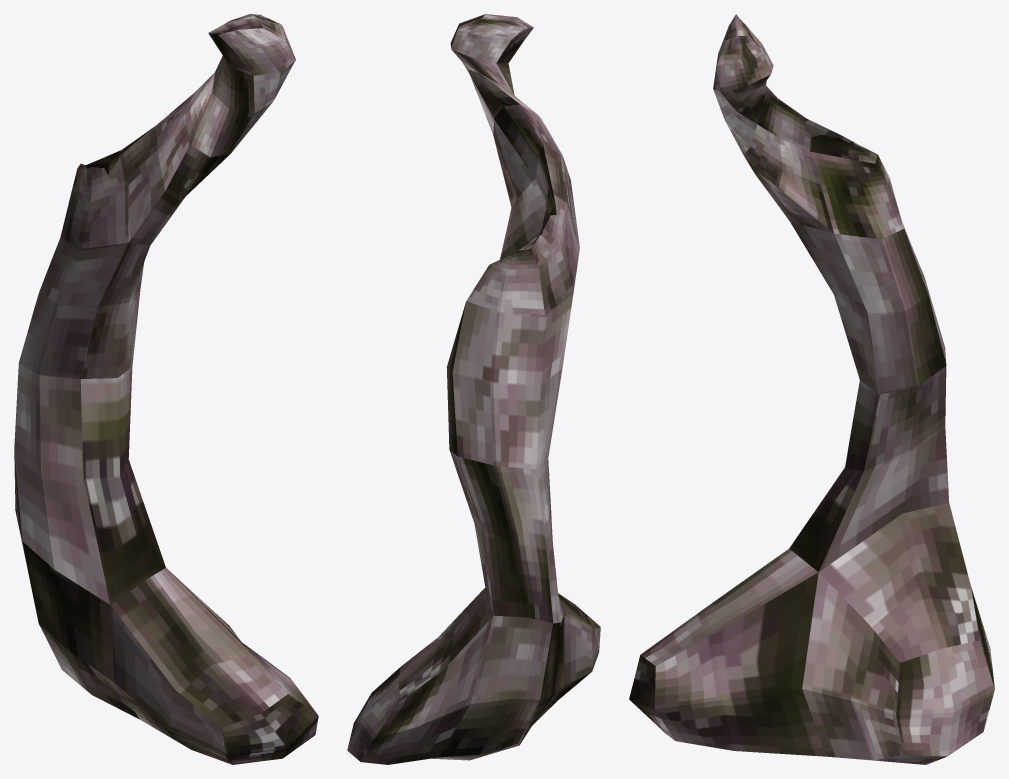
The model's file is Gut_3.fbx.
3 renders of one model, left to right at view 1: azimuth 30°, elevation 25°; view 2: azimuth 150°, elevation 25°; view 3: azimuth 270°, elevation 25°, orthographic. The views are drawn at different scales.
Visible parts, largest first — view 1: Cube.002; view 2: Cube.002; view 3: Cube.002.
Boxes of the visible parts, x1=… form: Cube.002: x1=14, y1=14, x2=318, y2=764; Cube.002: x1=347, y1=14, x2=600, y2=764; Cube.002: x1=629, y1=14, x2=994, y2=764.
Bounding box in the file's own units: 205 × 683 × 314.
Materials: 1 (1 with a texture image).
